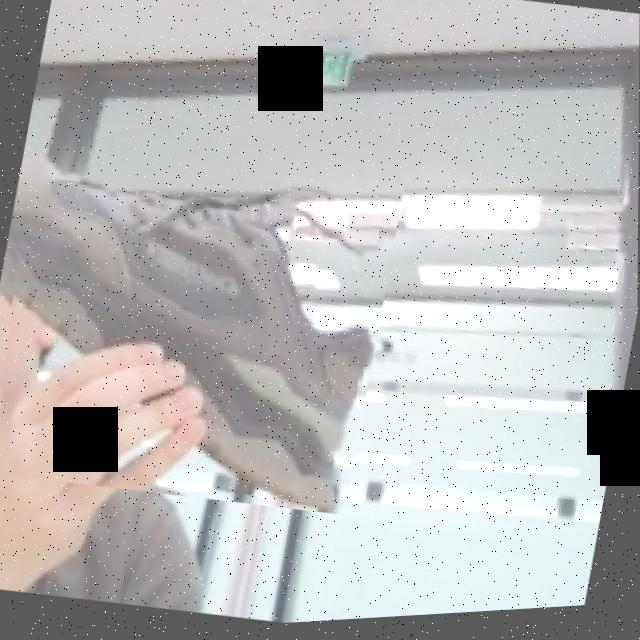shoe: (0, 59, 417, 535)
